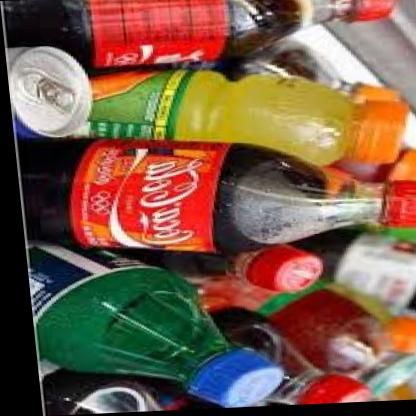Plastic: (27, 130, 416, 260), (29, 258, 288, 411), (0, 0, 401, 63)
